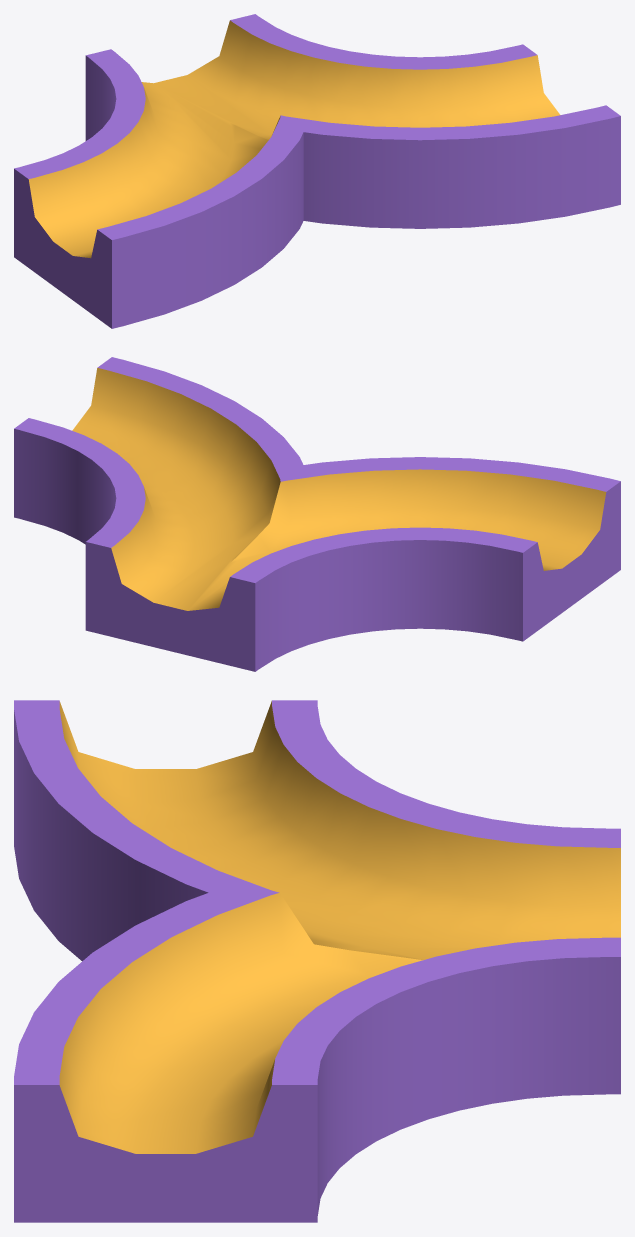
File: kenney-marble-split-double-sides.glb
3 views of the same model, one above another, from view 1: azimuth 30°, elevation 25°; view 2: azimuth 150°, elevation 25°; view 3: azimuth 270°, elevation 25° (orthographic). The views are drawn at different scales.
Parts seen in each view (by area): view 1: split-double-sides; view 2: split-double-sides; view 3: split-double-sides.
Part boxes in pixels (x1=…): split-double-sides: x1=14, y1=14, x2=620, y2=328; split-double-sides: x1=14, y1=357, x2=620, y2=671; split-double-sides: x1=14, y1=700, x2=620, y2=1222.
Bounding box in the file's own units: 3 × 0.4999 × 2.
Materials: 1 (1 with a texture image).
